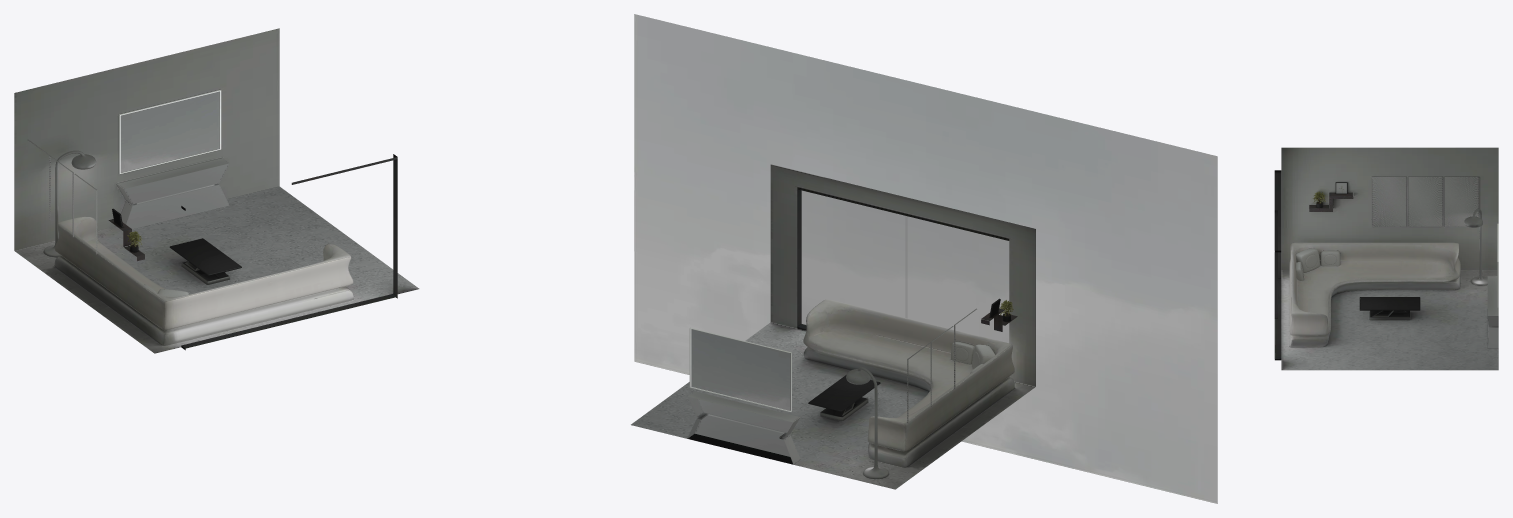
Rendered from room.lite.glb.
3 views of the same model, side by side, from view 1: azimuth 30°, elevation 25°; view 2: azimuth 150°, elevation 25°; view 3: azimuth 270°, elevation 25° (orthographic). The views are drawn at different scales.
Visible parts, largest first — view 1: Structure_Structure_0, Sofa_Sofa_0, TV_TV_0, TVStand_TVStand_0, CoffeeTable_CoffeeTable_0, Lamp_Lamp_0; view 2: Structure_Structure_0, Windows_Windows_0, Sofa_Sofa_0, TV_TV_0, TVStand_TVStand_0, CoffeeTable_CoffeeTable_0, Lamp_Lamp_0, Pillows_Pillows_0; view 3: Structure_Structure_0, Sofa_Sofa_0, AbstractArt_AbstractArt_0, CoffeeTable_CoffeeTable_0, Pillows_Pillows_0, TVStand_TVStand_0, Lamp_Lamp_0.
Part boxes in pixels (bbox=[...]): Structure_Structure_0: bbox=[14, 28, 419, 353]; Sofa_Sofa_0: bbox=[54, 217, 353, 345]; TV_TV_0: bbox=[118, 90, 221, 174]; TVStand_TVStand_0: bbox=[117, 158, 229, 229]; CoffeeTable_CoffeeTable_0: bbox=[169, 238, 241, 284]; Lamp_Lamp_0: bbox=[44, 150, 96, 256]; Structure_Structure_0: bbox=[631, 14, 1217, 503]; Windows_Windows_0: bbox=[802, 191, 1008, 342]; Sofa_Sofa_0: bbox=[803, 299, 1014, 467]; TV_TV_0: bbox=[689, 328, 791, 411]; TVStand_TVStand_0: bbox=[687, 391, 800, 464]; CoffeeTable_CoffeeTable_0: bbox=[808, 375, 880, 420]; Lamp_Lamp_0: bbox=[846, 367, 888, 478]; Pillows_Pillows_0: bbox=[951, 341, 994, 373]; Structure_Structure_0: bbox=[1274, 147, 1498, 370]; Sofa_Sofa_0: bbox=[1289, 242, 1460, 347]; AbstractArt_AbstractArt_0: bbox=[1372, 176, 1478, 226]; CoffeeTable_CoffeeTable_0: bbox=[1359, 297, 1420, 320]; Pillows_Pillows_0: bbox=[1296, 248, 1340, 280]; TVStand_TVStand_0: bbox=[1487, 276, 1498, 348]; Lamp_Lamp_0: bbox=[1464, 208, 1487, 285].
Bounding box in the file's own units: 11.81 × 6.73 × 5.72.
11 materials, 10 textured.
